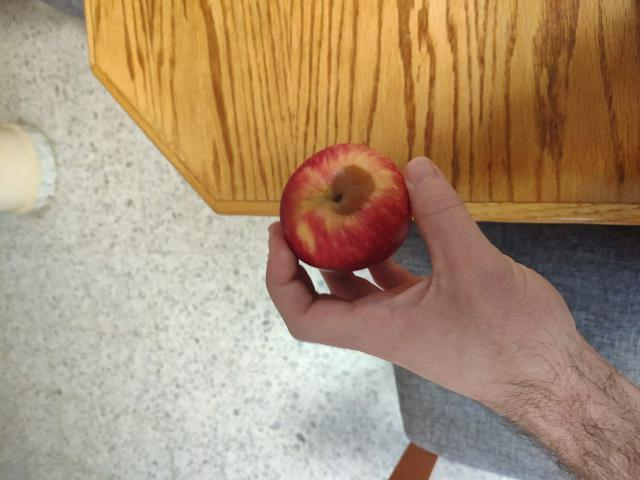apple: (272, 143, 431, 279)
